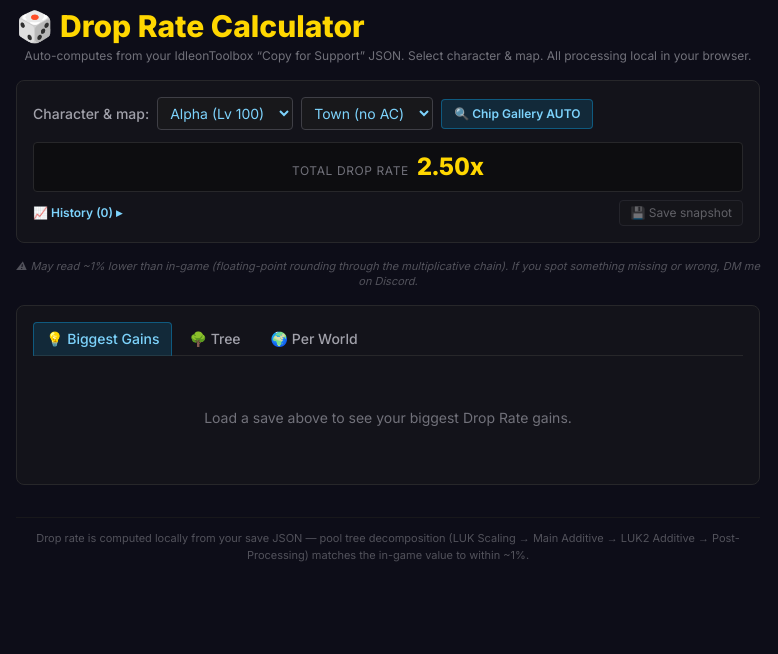
it: DropRatePageClient — the tracker header › Compare vs Observed Max sits at the tab strip's right end on Tree and Per World; Include Arcane Map in the banner while comparing
Expected: the field labelled "Compare vs Observed Max" is not shown
Click the button "🌳 Tree".
click(215, 339)  # box x1=176 y1=322 x2=254 y2=356
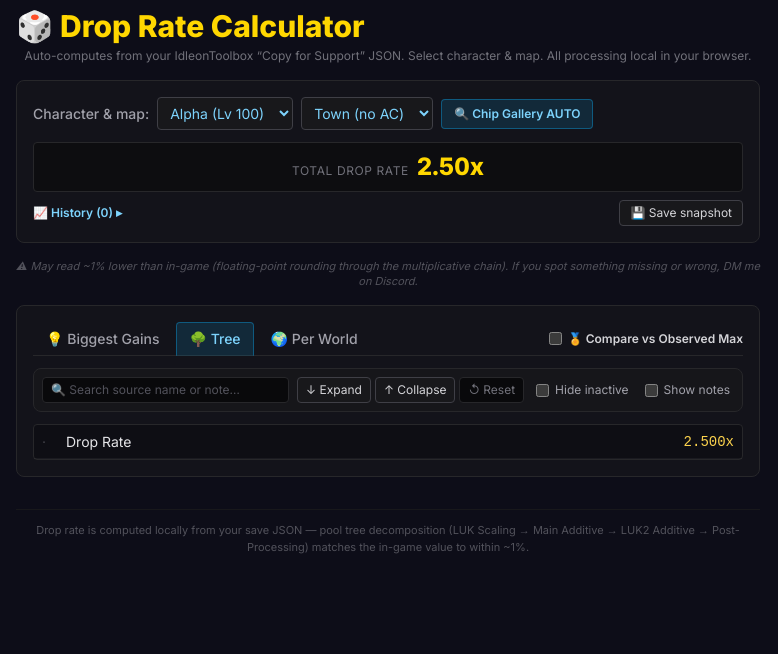
Expected: the field labelled "Include Arcane Map" is not shown
Click the checkbox labelled "🏅 Compare vs Observed Max".
click(555, 339)  # box x1=549 y1=332 x2=562 y2=345
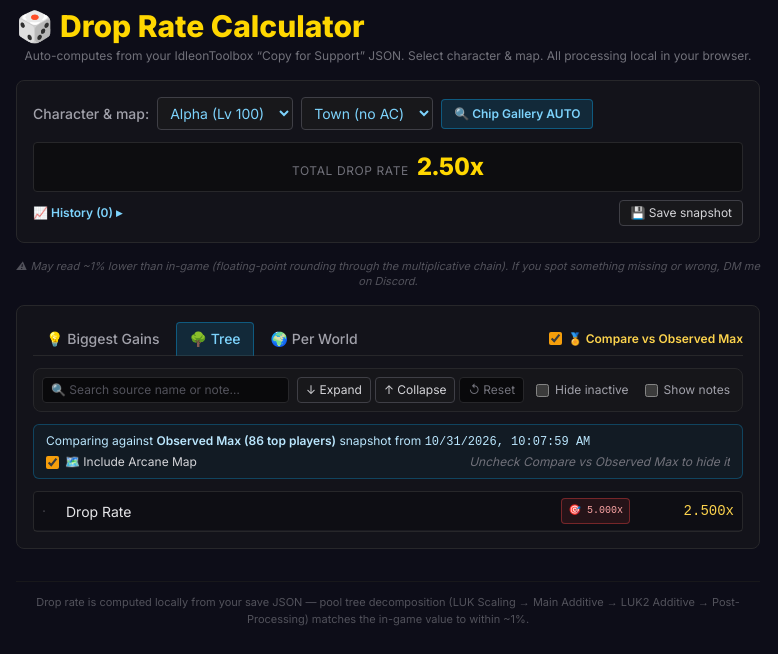
Result: the checkbox labelled "🏅 Compare vs Observed Max" is checked at x1=549 y1=332 x2=562 y2=345
Result: the element titled "Reference (Observed Max)" reads "🎯 5.000x" at x1=562 y1=498 x2=630 y2=524
Click the checkbox labelled "🗺️ Include Arcane Map".
click(52, 462)  # box x1=46 y1=456 x2=59 y2=469
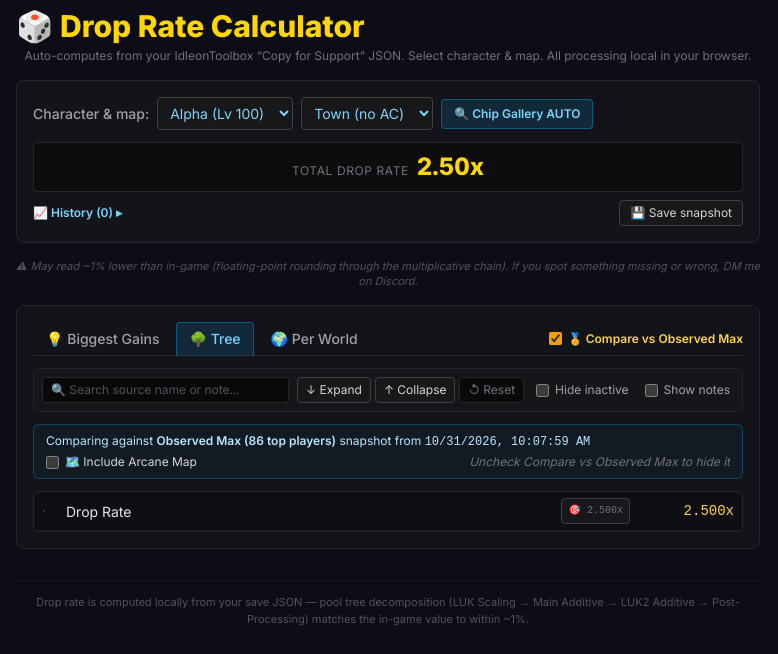
Result: the checkbox labelled "🗺️ Include Arcane Map" is not checked at x1=46 y1=456 x2=59 y2=469
Result: the text "Observed Max (86 top players)" is shown at x1=156 y1=433 x2=336 y2=448
Result: the element titled "Reference (Observed Max)" reads "🎯 2.500x" at x1=562 y1=498 x2=630 y2=524
Click the button "🌍 Per World".
click(314, 339)  # box x1=258 y1=322 x2=371 y2=356
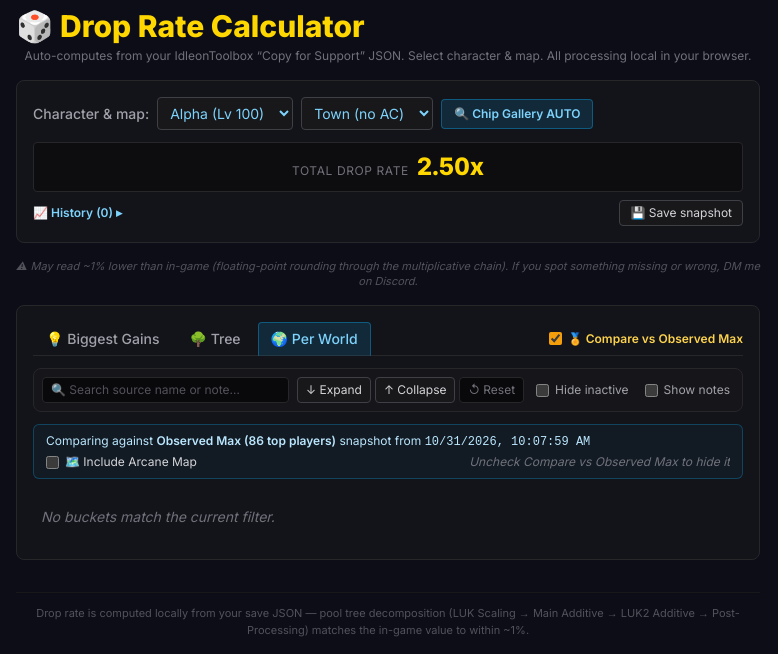
Result: the checkbox labelled "🏅 Compare vs Observed Max" is checked
Result: the checkbox labelled "🗺️ Include Arcane Map" is not checked at x1=46 y1=456 x2=59 y2=469
Click the checkbox labelled "🏅 Compare vs Observed Max".
click(555, 339)  # box x1=549 y1=332 x2=562 y2=345
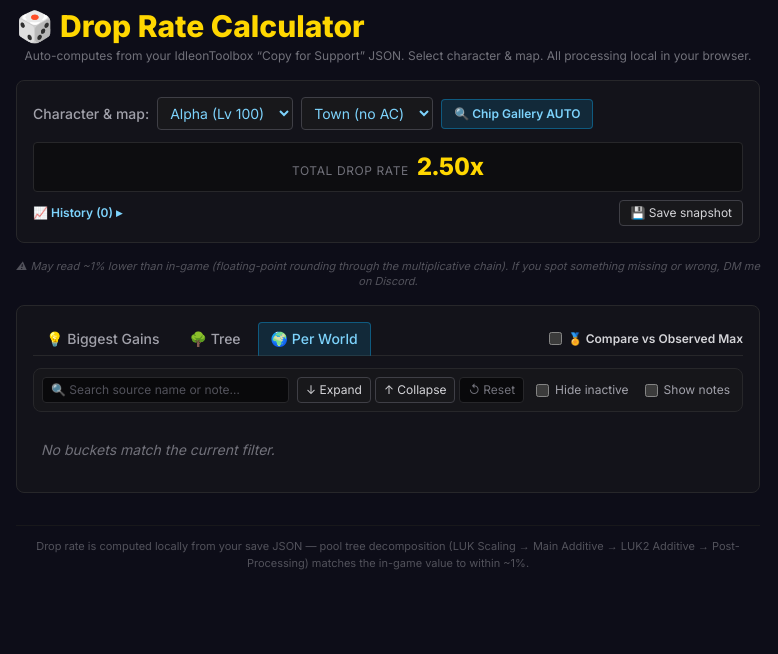
Result: the label labelled "Include Arcane Map" is gone
Click the button "💡 Biggest Gains".
click(103, 339)  # box x1=33 y1=322 x2=172 y2=356
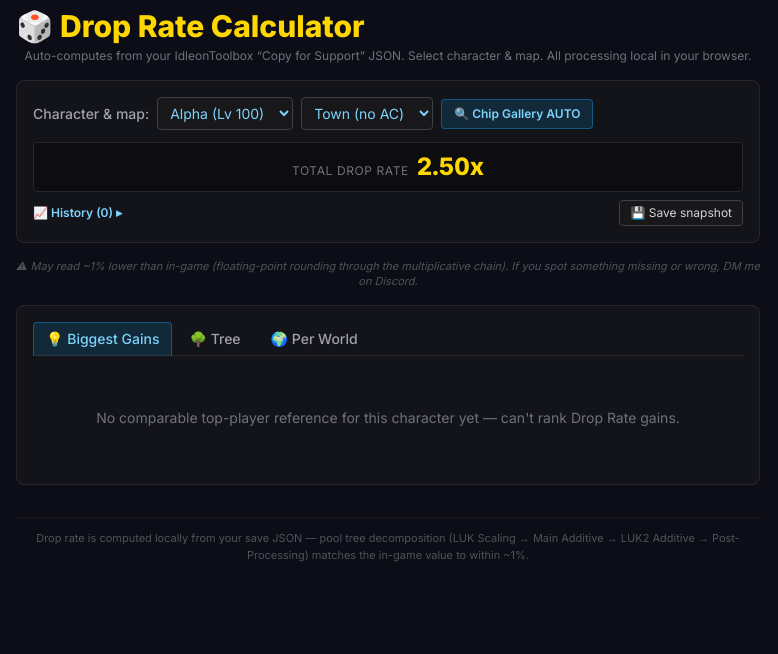
Result: the label labelled "Compare vs Observed Max" is gone
